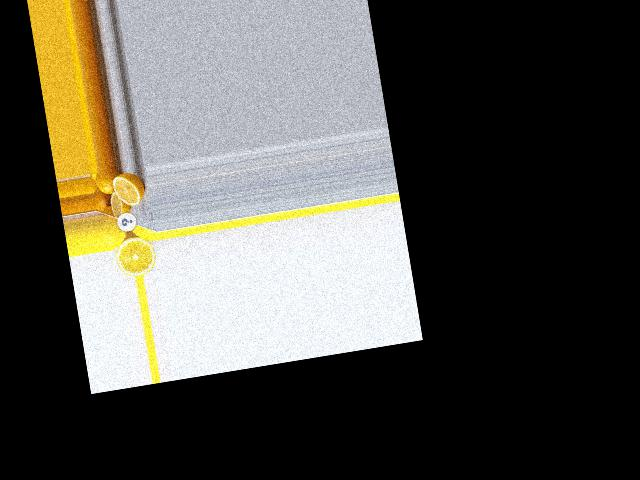lemon: (97, 210, 130, 253)
